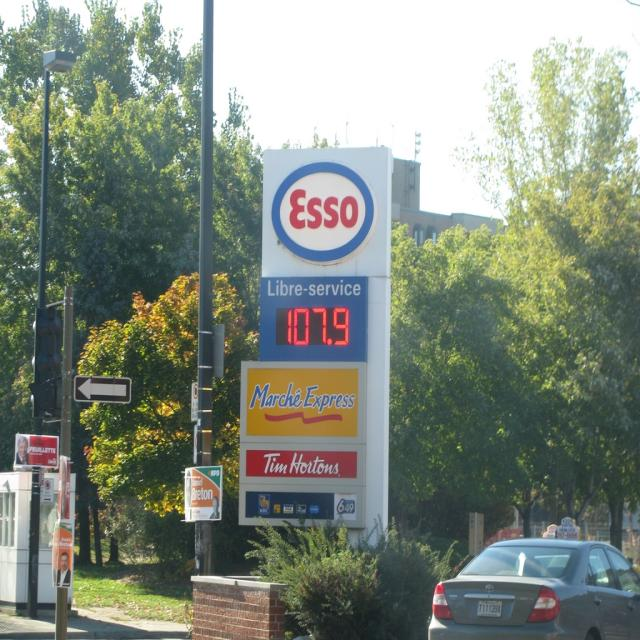esso: (268, 157, 380, 268)
